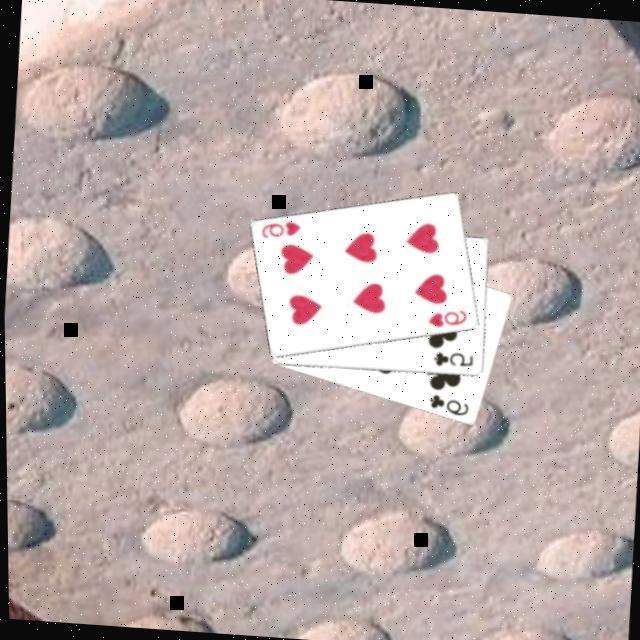5C: (427, 350, 474, 372)
6C: (422, 392, 470, 420)
6H: (422, 306, 468, 334), (256, 217, 302, 245)
